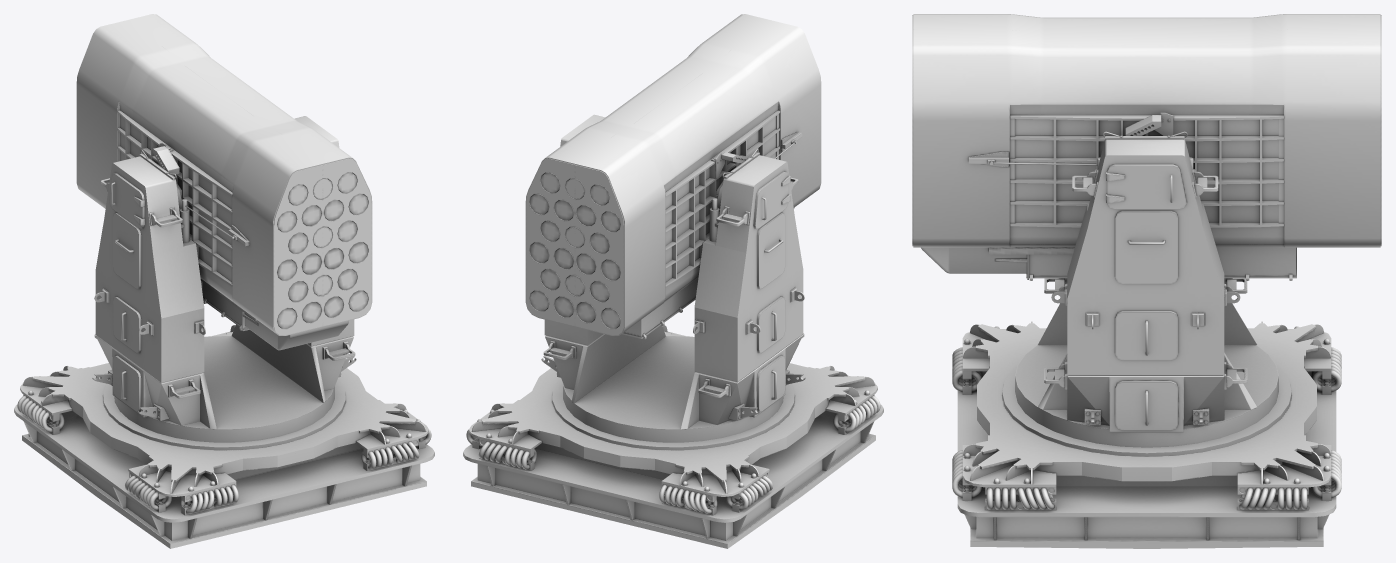
Rendered from rim_116.fbx.
3 renders of one model, left to right at view 1: azimuth 30°, elevation 25°; view 2: azimuth 150°, elevation 25°; view 3: azimuth 270°, elevation 25°, orthographic. The views are drawn at different scales.
Parts seen in each view (by area): view 1: Rotate-x, Rotate_Z, Cylinder.001, Stand, Cylinder, Rotate_X; view 2: Rotate-x, Rotate_Z, Cylinder.001, Stand, Cylinder, Rotate_X; view 3: Rotate-x, Rotate_Z, Cylinder.001, Stand, Cylinder, Rotate_X.
Part boxes in pixels (x1,y1,x2,y2): Rotate-x: [76, 14, 372, 335]; Rotate_Z: [92, 116, 356, 429]; Cylinder.001: [17, 325, 431, 515]; Stand: [14, 404, 434, 548]; Cylinder: [103, 336, 345, 450]; Rotate_X: [200, 278, 348, 350]; Rotate-x: [525, 14, 821, 335]; Rotate_Z: [541, 114, 805, 429]; Cylinder.001: [466, 325, 880, 515]; Stand: [463, 404, 883, 548]; Cylinder: [552, 336, 794, 450]; Rotate_X: [621, 207, 794, 339]; Rotate-x: [912, 14, 1381, 247]; Rotate_Z: [1038, 131, 1256, 432]; Cylinder.001: [952, 321, 1341, 510]; Stand: [957, 371, 1336, 548]; Cylinder: [1002, 345, 1291, 456]; Rotate_X: [921, 247, 1296, 280].
Bounding box in the file's own units: 193 × 245 × 234.
